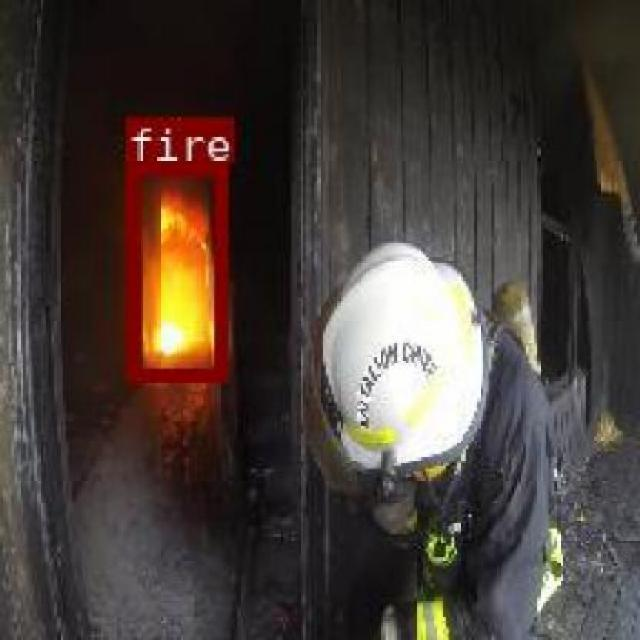Fire: (124, 160, 225, 380)
